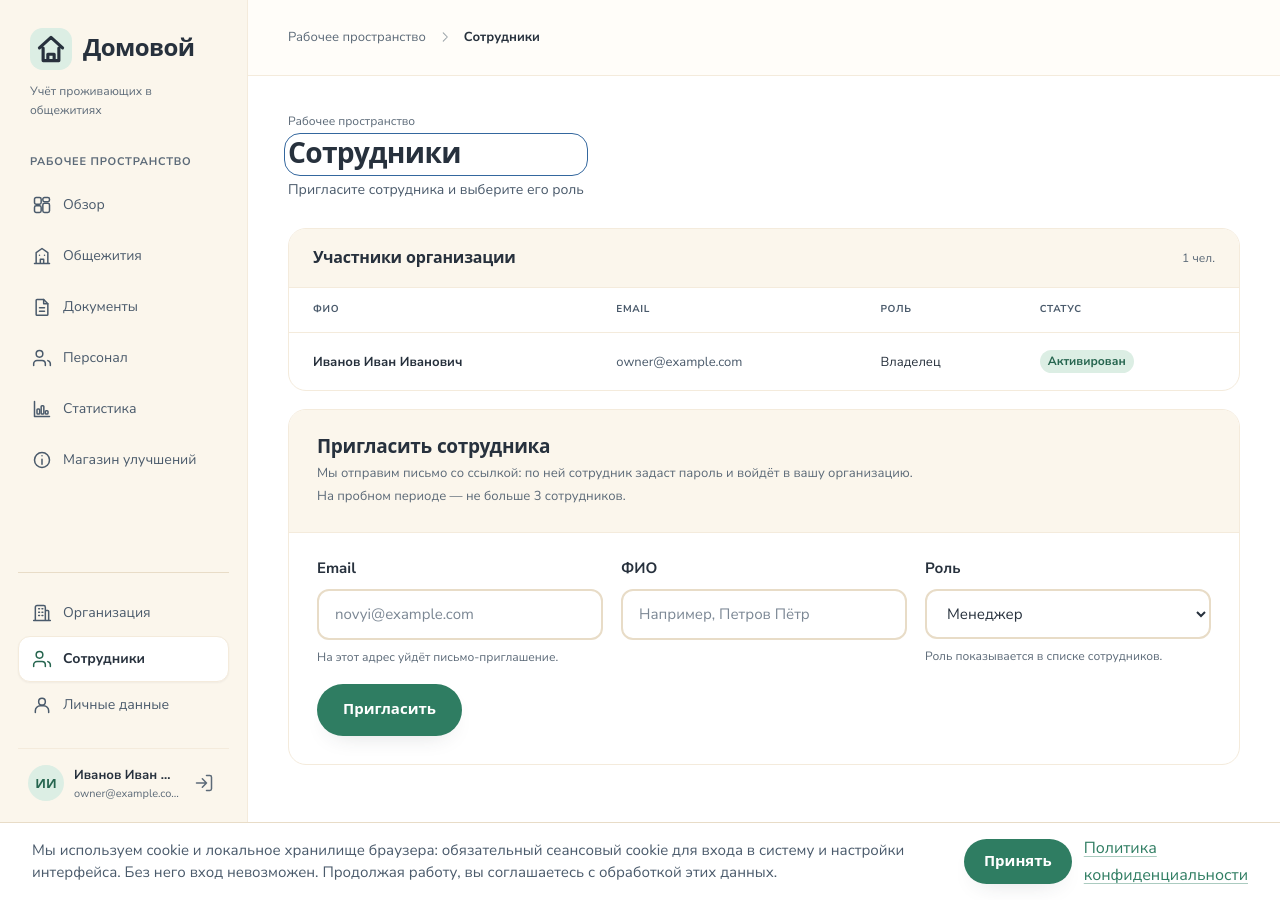
экран сотрудников › показывает 422 на пустой email текстом валидатора
Expected: the field with test id "invite-email" is shown, [317,589,603,640]
Type "Петров Пётр" into the field with test id "invite-full-name" at (764, 614), box [621,589,907,640]
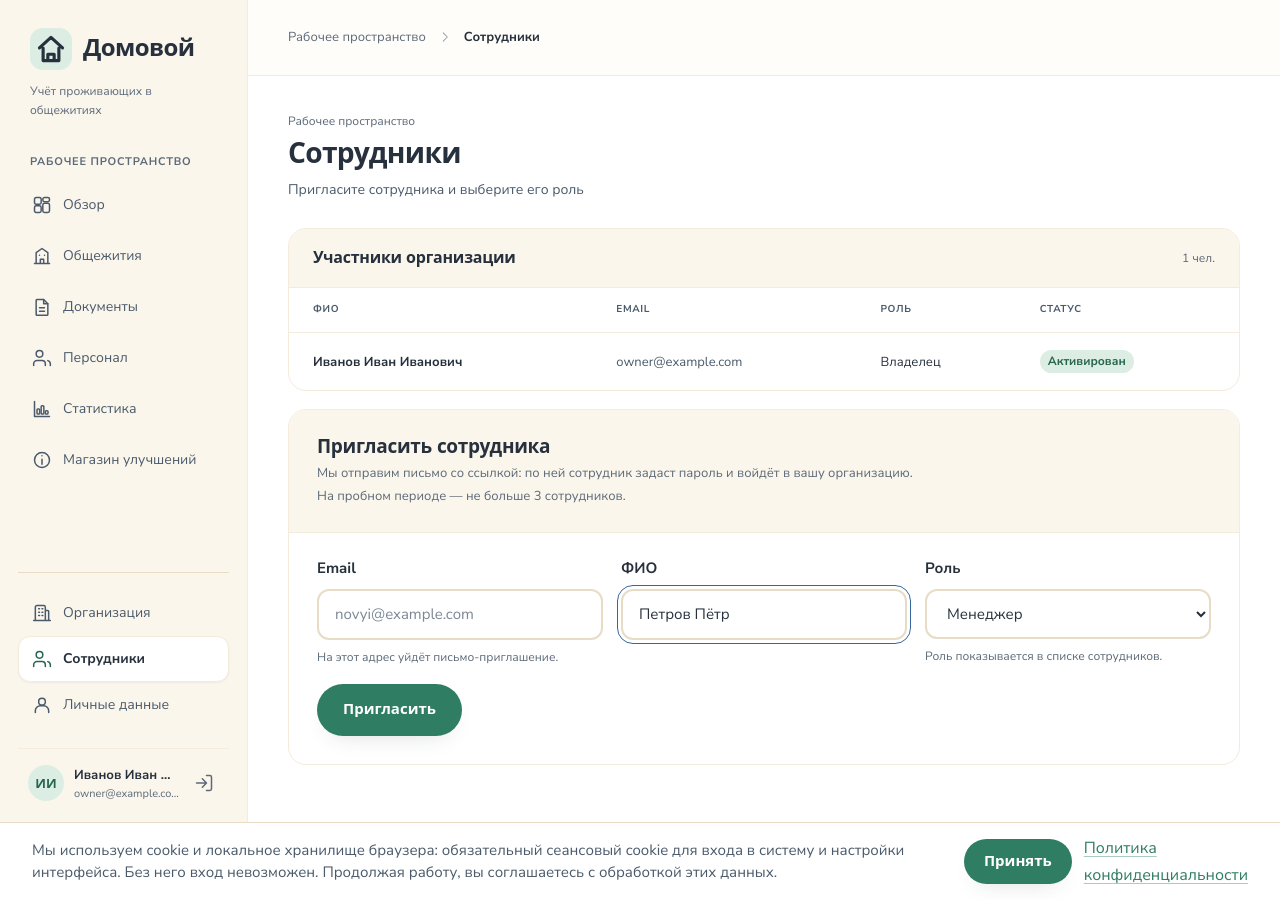
Click the button with test id "invite-submit" at (390, 710), box [317,684,462,736]
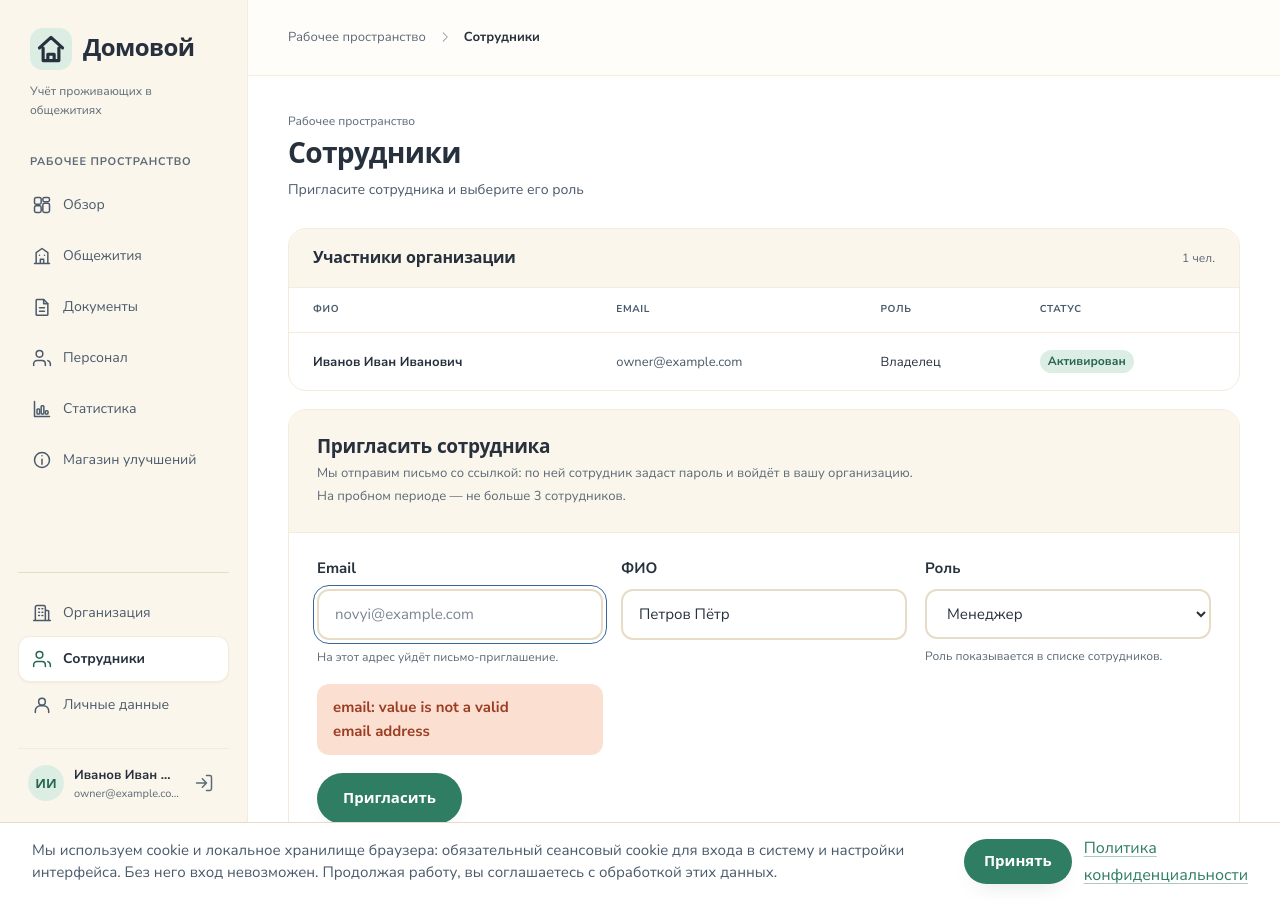
Expected: the message with test id "invite-error" reads "email: value is not a valid email address", [333,698,509,741]
